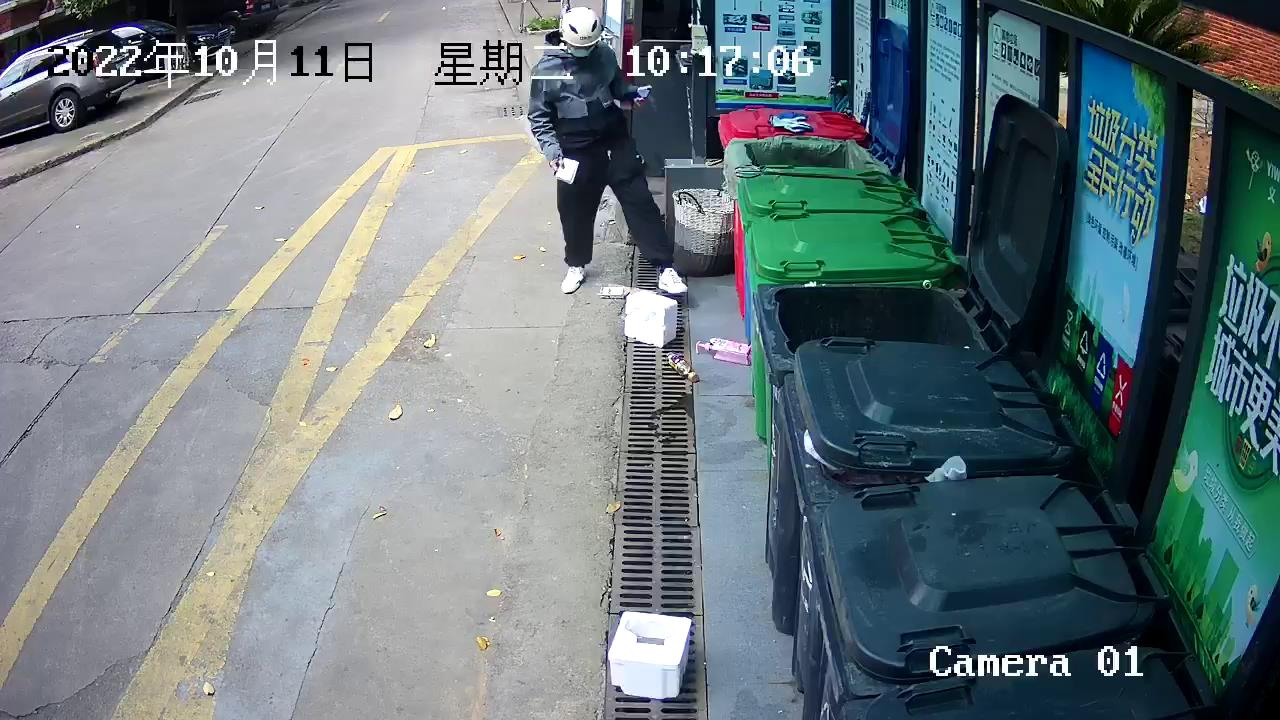paomozhipin: (601, 606, 697, 701)
person: (523, 3, 693, 298)
suliaozhipin: (693, 333, 755, 367), (663, 347, 702, 388)
zhizhipin: (623, 285, 680, 347)
